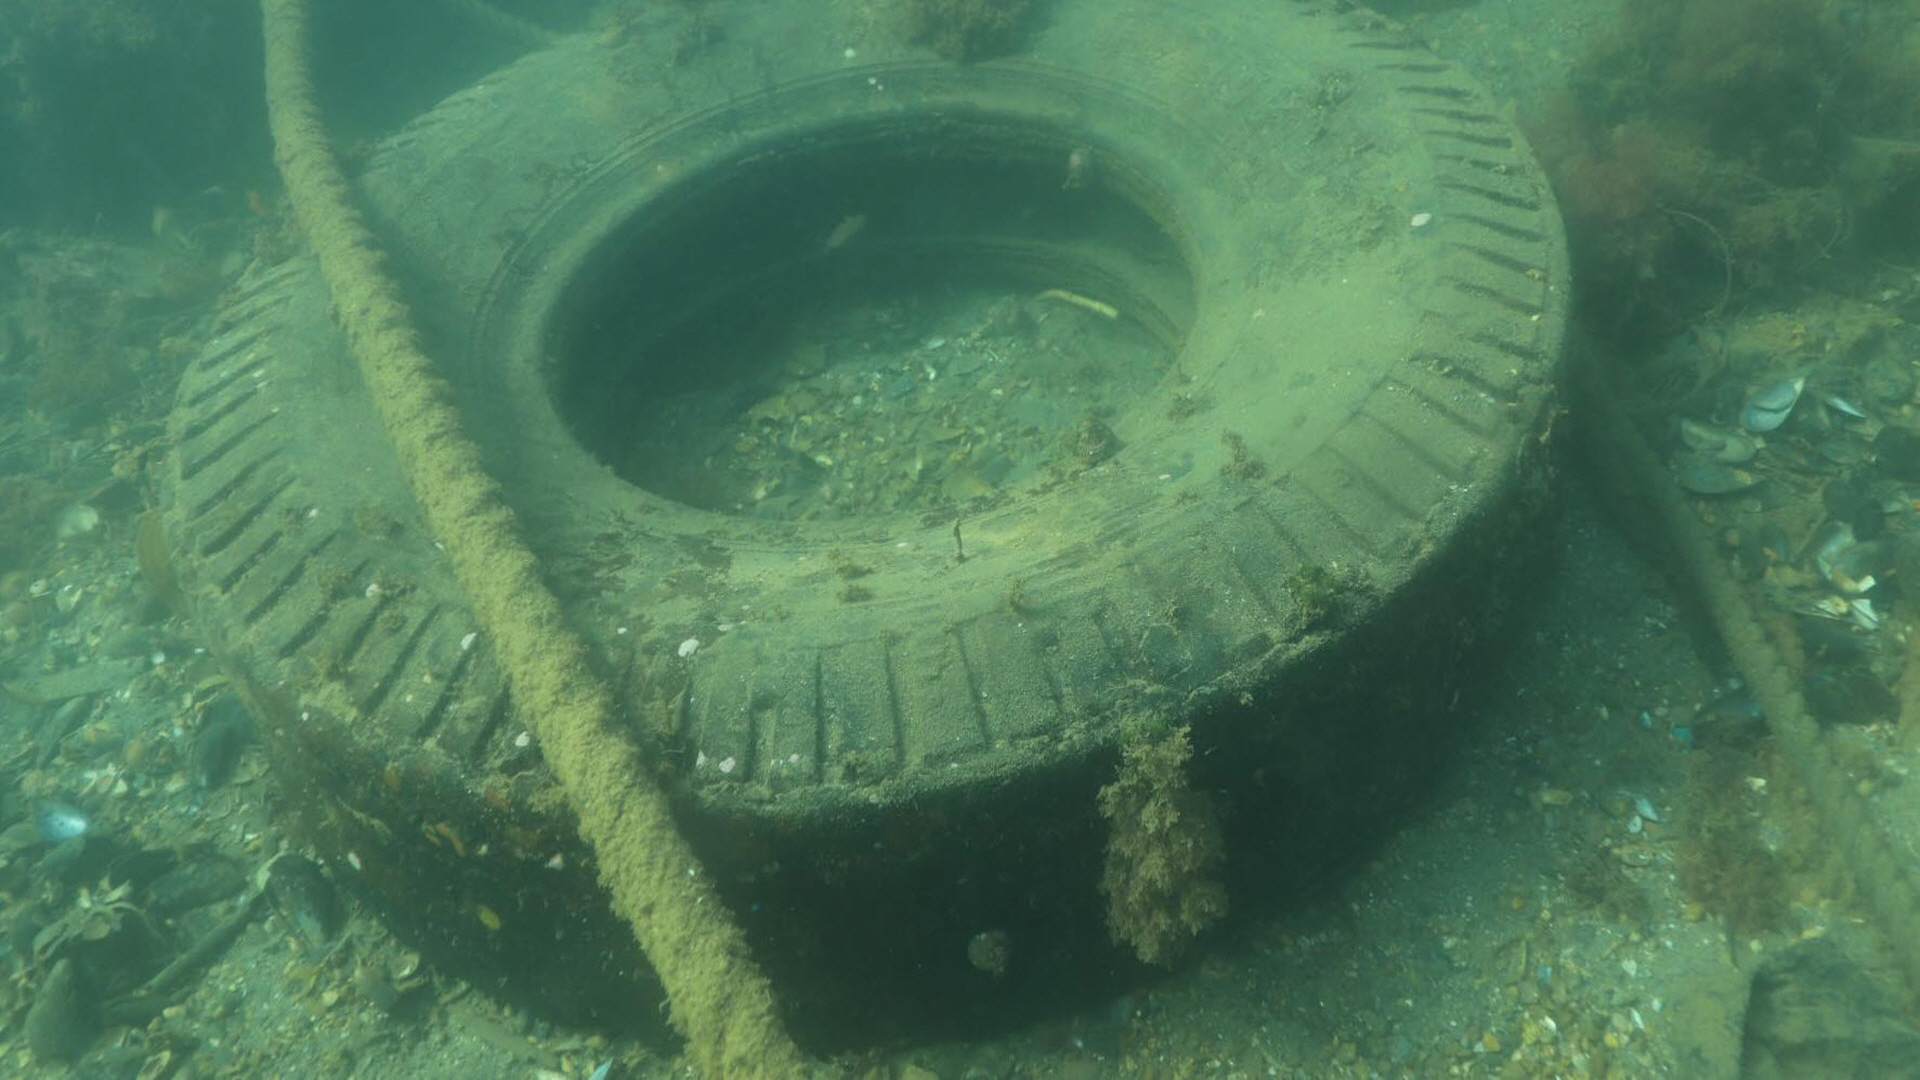rope: (258, 0, 814, 1080), (1629, 433, 1920, 996)
tire: (154, 0, 1571, 1058)
